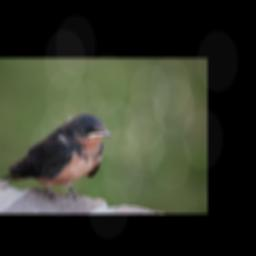Swallow: (1, 113, 113, 202)
